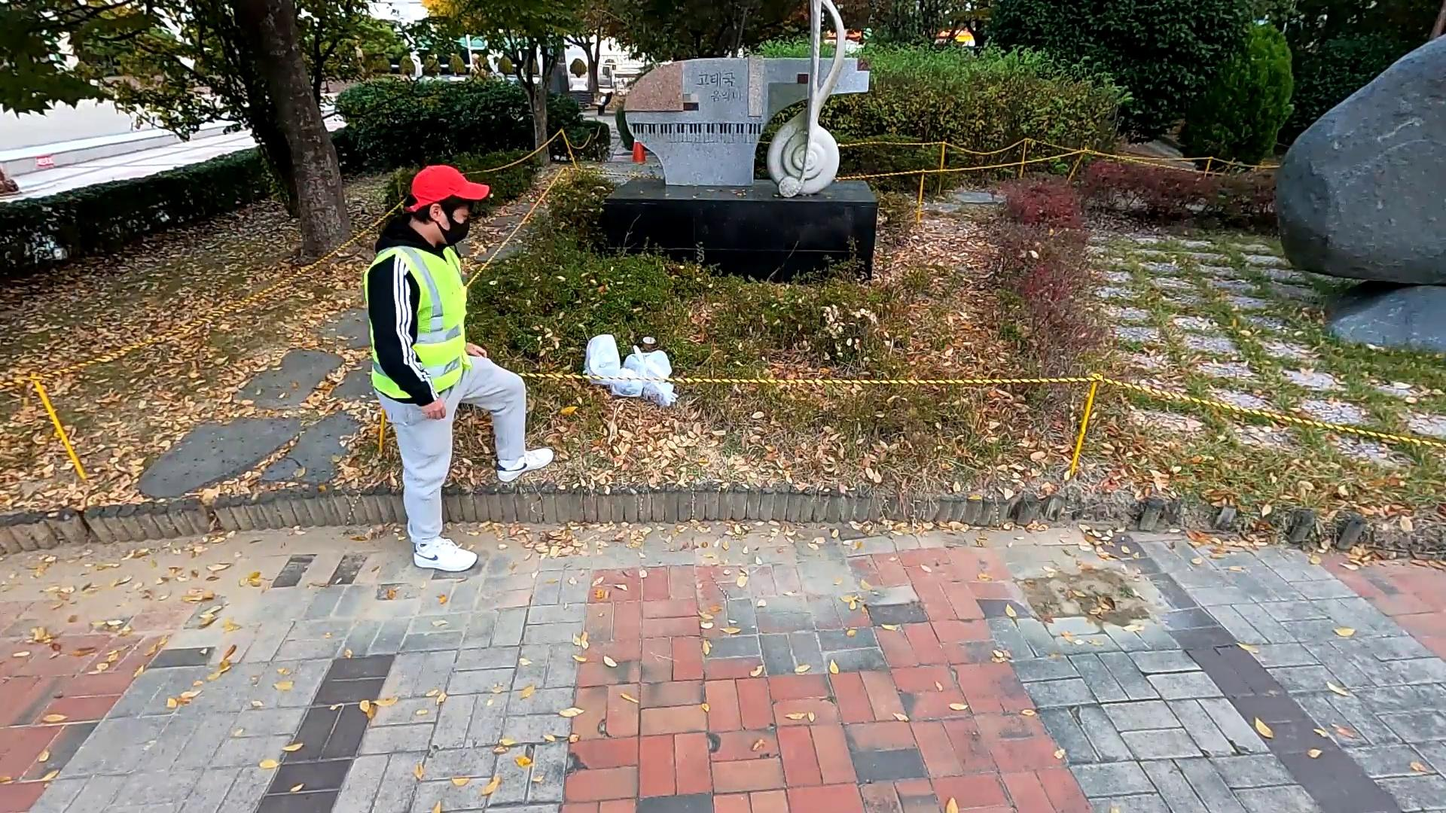person: (359, 146, 556, 581)
trash: (574, 331, 628, 383), (618, 340, 673, 385), (611, 349, 650, 402), (643, 375, 684, 409)
